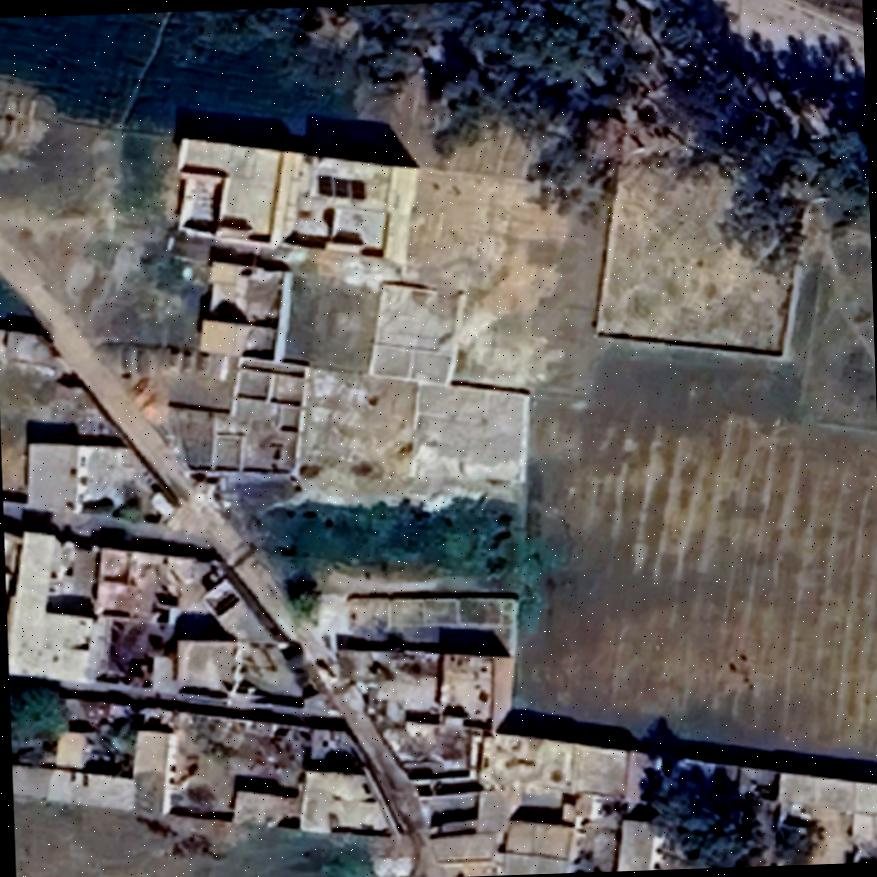Solarpanel: (312, 169, 368, 204)
